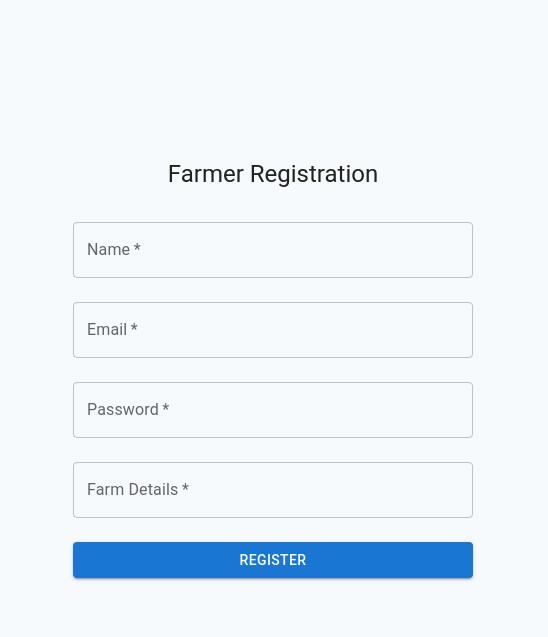
it: FarmerRegistrationForm › renders and submits the form
Type "John Doe" into the field labelled "Name *" at (273, 250), box 73,222 -> 473,278
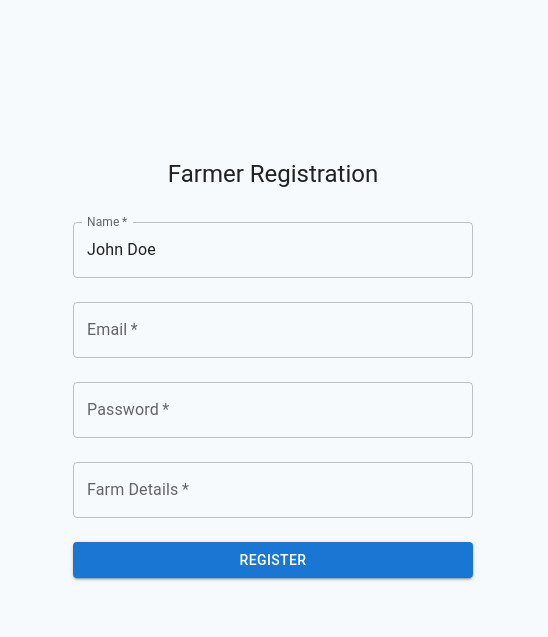
Type "john@example.com" into the field labelled "Email *" at (273, 330), box 73,302 -> 473,358
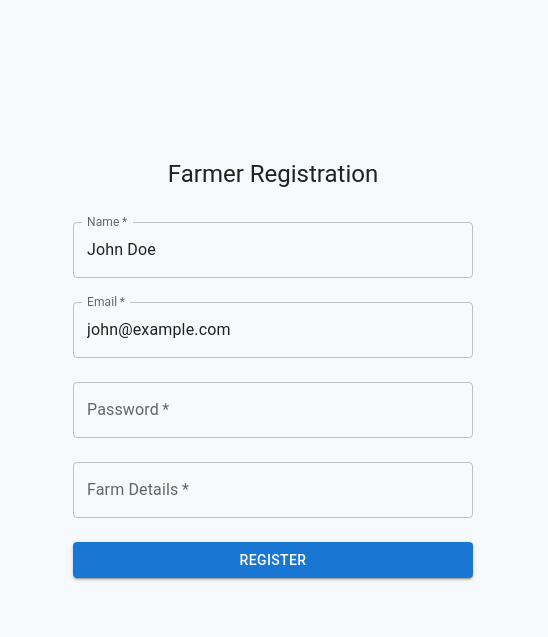
Type "password123" into the password field labelled "Password *" at (273, 410), box 73,382 -> 473,438
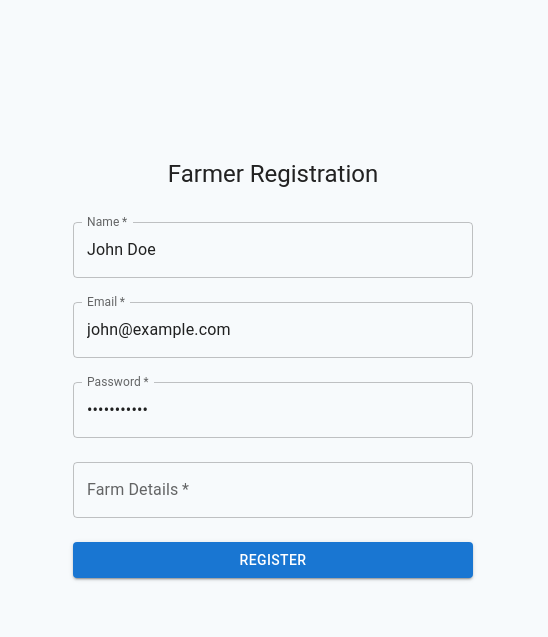
Type "Green Acres" into the field labelled "Farm Details *" at (273, 490), box 73,462 -> 473,518
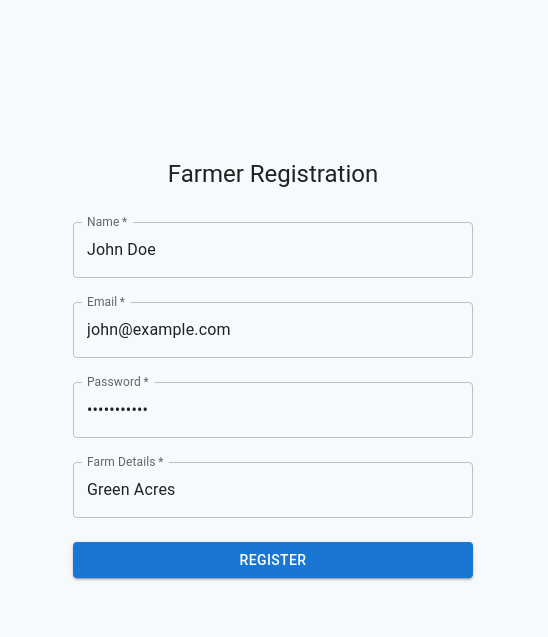
Click the button "Register" at (273, 560), box 73,542 -> 473,578
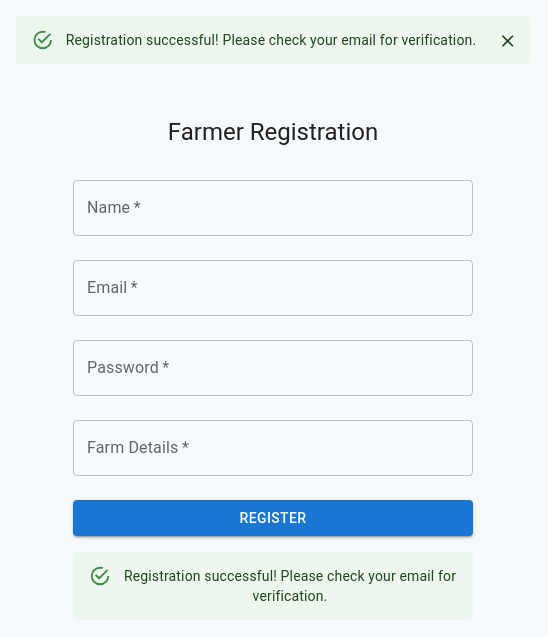
Check: the text "Registration successful" below "Farm Details" is shown, box 124,568 -> 456,604
